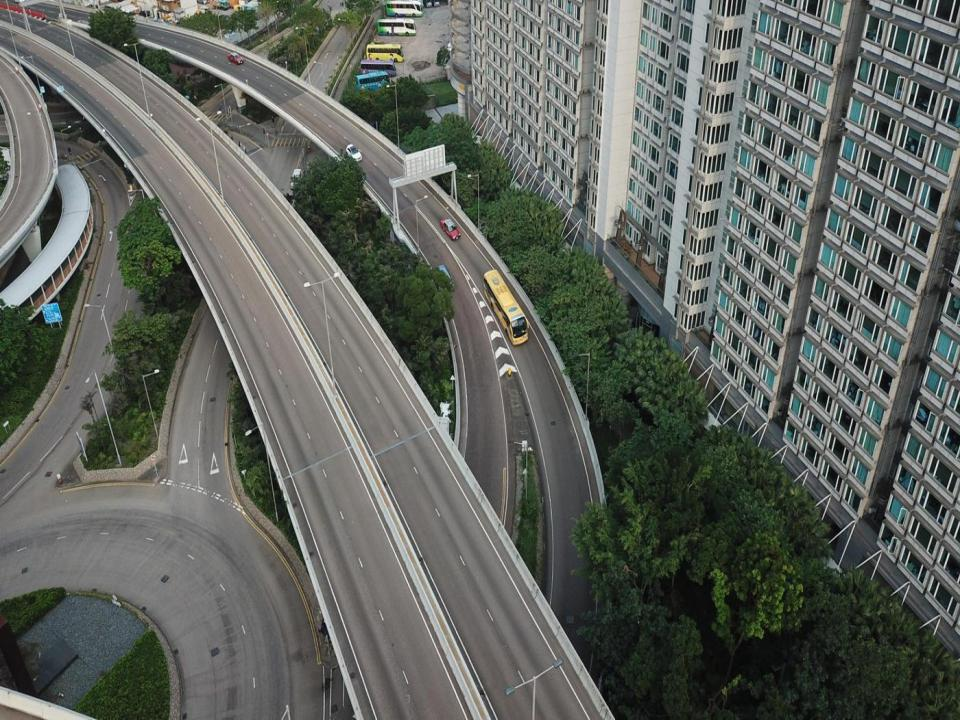bus: (483, 268, 528, 346), (355, 70, 390, 94), (366, 43, 404, 63), (376, 18, 416, 37), (361, 58, 396, 78), (386, 0, 423, 17), (240, 4, 260, 19), (423, 0, 433, 8), (433, 0, 439, 7), (447, 0, 454, 5)
car: (439, 218, 460, 241), (346, 143, 362, 162), (228, 52, 244, 65)
truck: (162, 15, 175, 30), (211, 0, 229, 10)
van: (434, 264, 453, 293), (291, 169, 302, 190), (233, 4, 246, 15), (195, 0, 208, 5)
